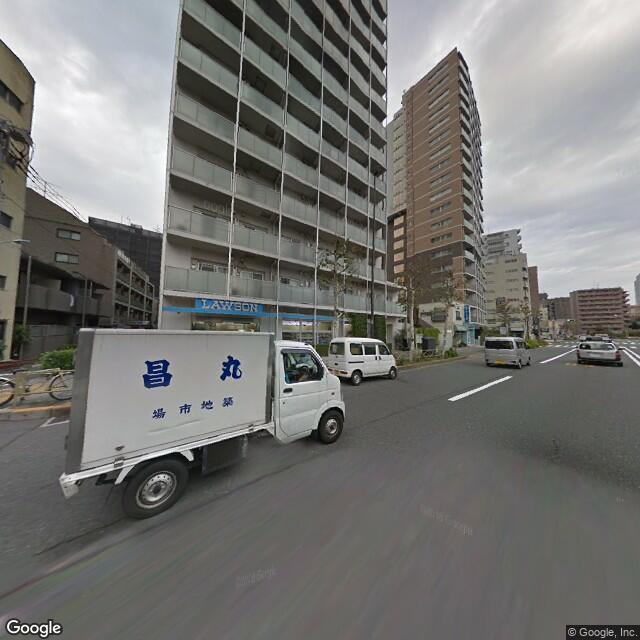lawson: (195, 293, 262, 315)
